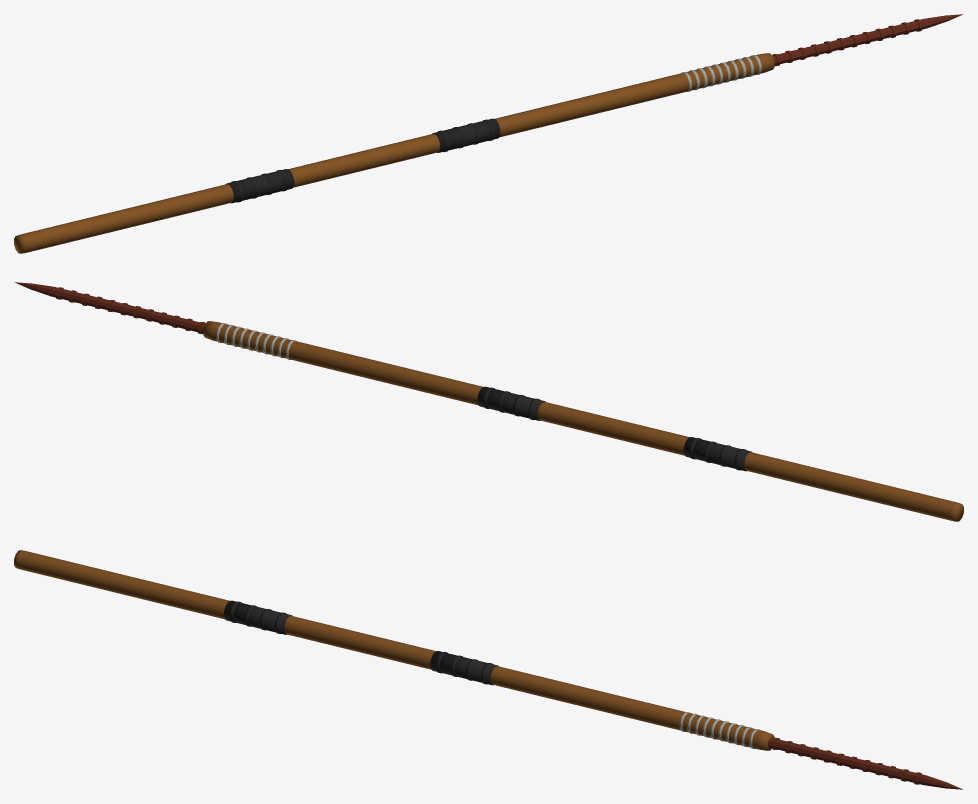
Rendered from item_rebar_spear.glb.
The picture shows the model from 3 angles, top to bottom: view 1: azimuth 30°, elevation 25°; view 2: azimuth 150°, elevation 25°; view 3: azimuth 330°, elevation 25°; orthographic projection.
Visible parts, largest first — view 1: pole, rebar, grip, grip_left; view 2: pole, rebar, grip, grip_left; view 3: pole, rebar, grip_left, grip.
Part boxes in pixels (bbox=[...]): pole: bbox=[14, 53, 774, 253]; rebar: bbox=[772, 14, 962, 65]; grip: bbox=[226, 169, 294, 203]; grip_left: bbox=[432, 118, 500, 152]; pole: bbox=[203, 321, 963, 521]; rebar: bbox=[15, 282, 205, 333]; grip: bbox=[683, 437, 751, 471]; grip_left: bbox=[477, 386, 545, 420]; pole: bbox=[14, 550, 774, 750]; rebar: bbox=[768, 737, 962, 789]; grip_left: bbox=[430, 651, 498, 685]; grip: bbox=[224, 600, 292, 634].
Size of the model in its own units: 2.2 by 0.0444 by 0.0422.
